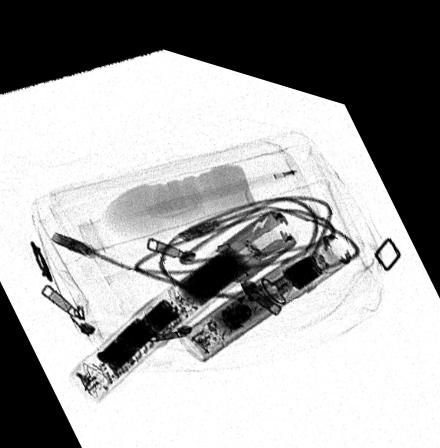Baton: (68, 192, 298, 396), (175, 212, 351, 349)
